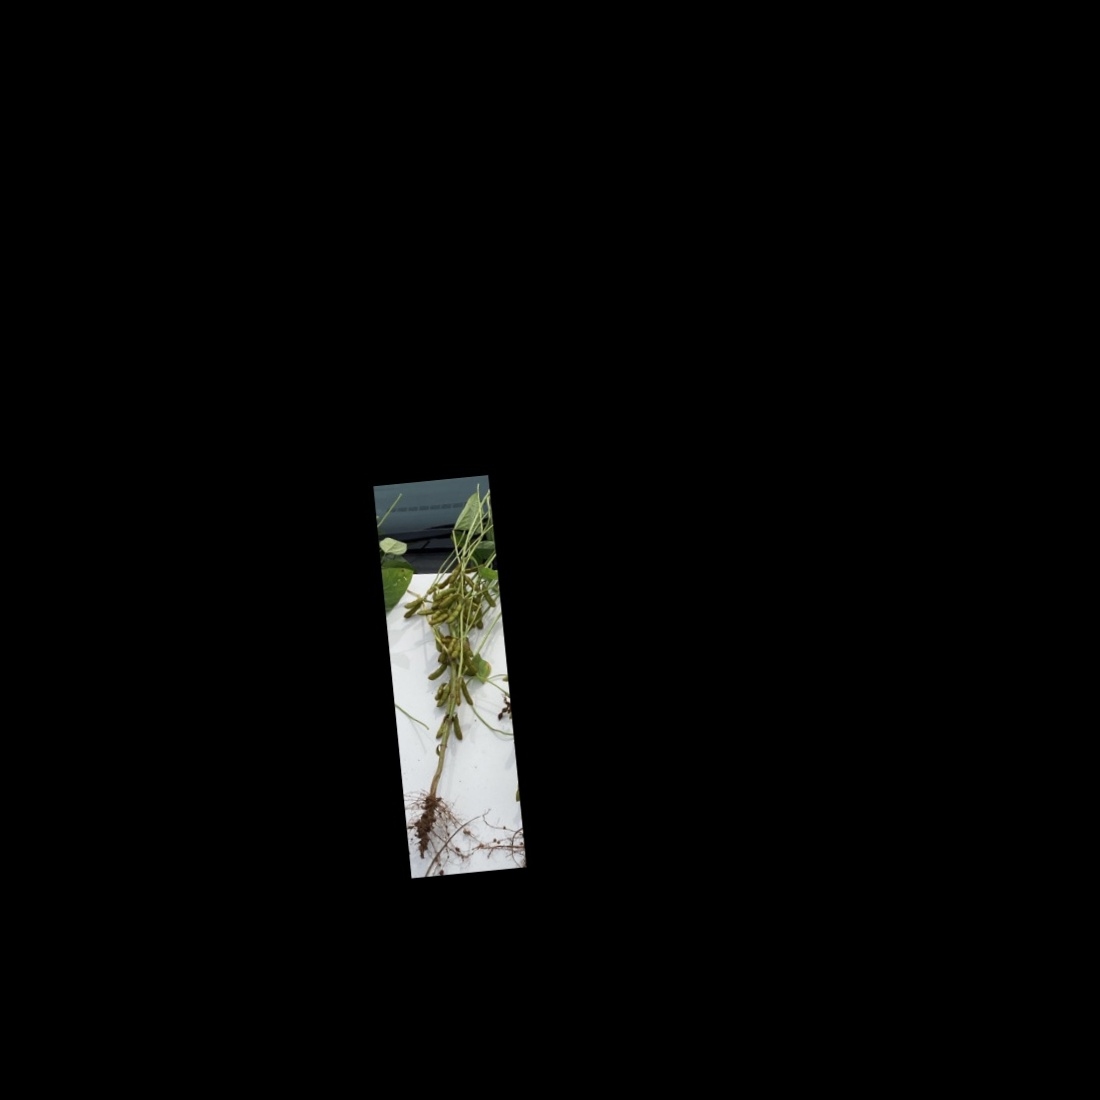pod: (422, 660, 452, 683), (433, 679, 454, 711), (442, 598, 466, 626), (445, 559, 464, 588), (400, 600, 427, 621), (477, 582, 497, 610), (459, 677, 475, 710), (451, 711, 465, 744), (461, 651, 479, 676), (451, 678, 464, 707), (401, 596, 426, 611)
soy: (376, 482, 523, 856)
